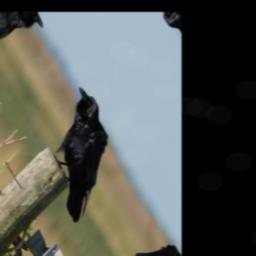Crow: (26, 81, 133, 228)
